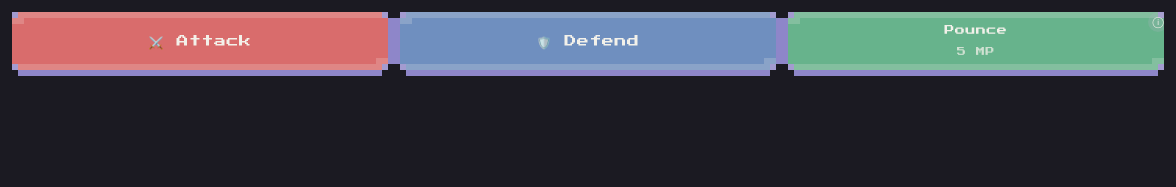
Test: ActionButtons wiring › InfoIcon (touch device) › tapping it toggles the panel without submitting the ability
The width and height of the screenshot is (1176, 187).
Click the button named "toggle info for pounce": (1156, 22) [1148,12,1164,32]
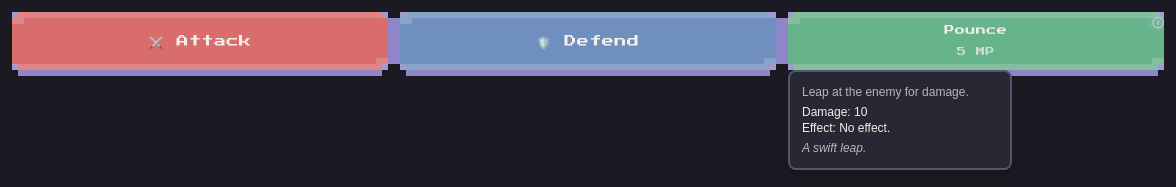
Expected: the tooltip is shown, [788,70,1012,170]
Click the button named "toggle info for pounce": (1156, 22) [1148,12,1164,32]
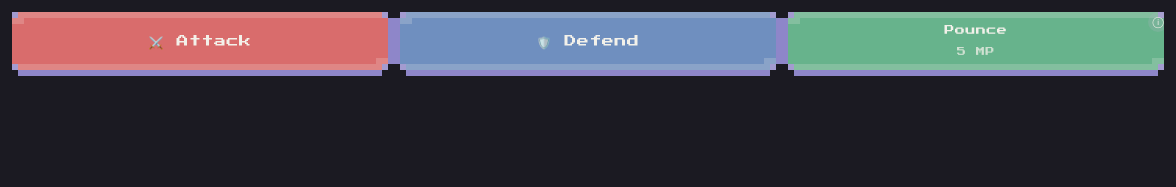
Expected: the tooltip "Leap at the enemy for damage. Damage: 10 Effect: No effect. A swift leap." is gone
